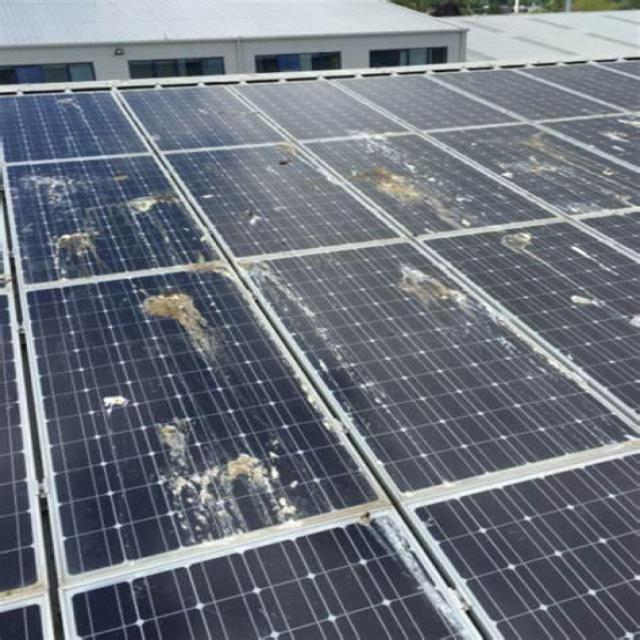soiled: (1, 83, 640, 568)
